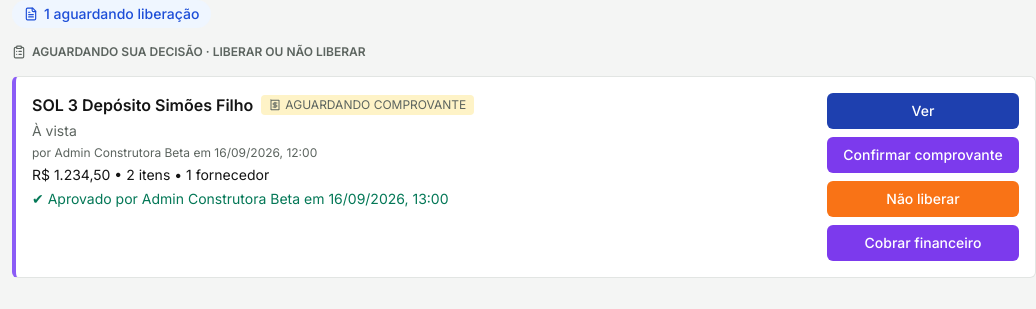
Test case: PendingReleaseList › clicar em Não liberar abre o campo de motivo e troca os botões pela confirmação
The width and height of the screenshot is (1036, 309).
What coordinates should you click on to do the following:
click the button "Não liberar"
I would click on:
 (923, 199)
Its box is left=827, top=181, right=1019, bottom=217.
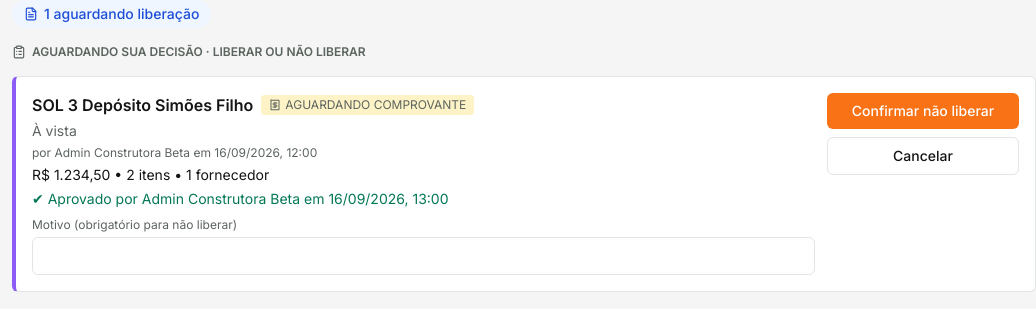
Now the field labelled "Motivo (obrigatório para não liberar)" is shown, box left=32, top=237, right=815, bottom=275
Now the button "Confirmar não liberar" is shown, box left=827, top=93, right=1019, bottom=129
Now the button "Cancelar" is shown, box left=827, top=137, right=1019, bottom=175
